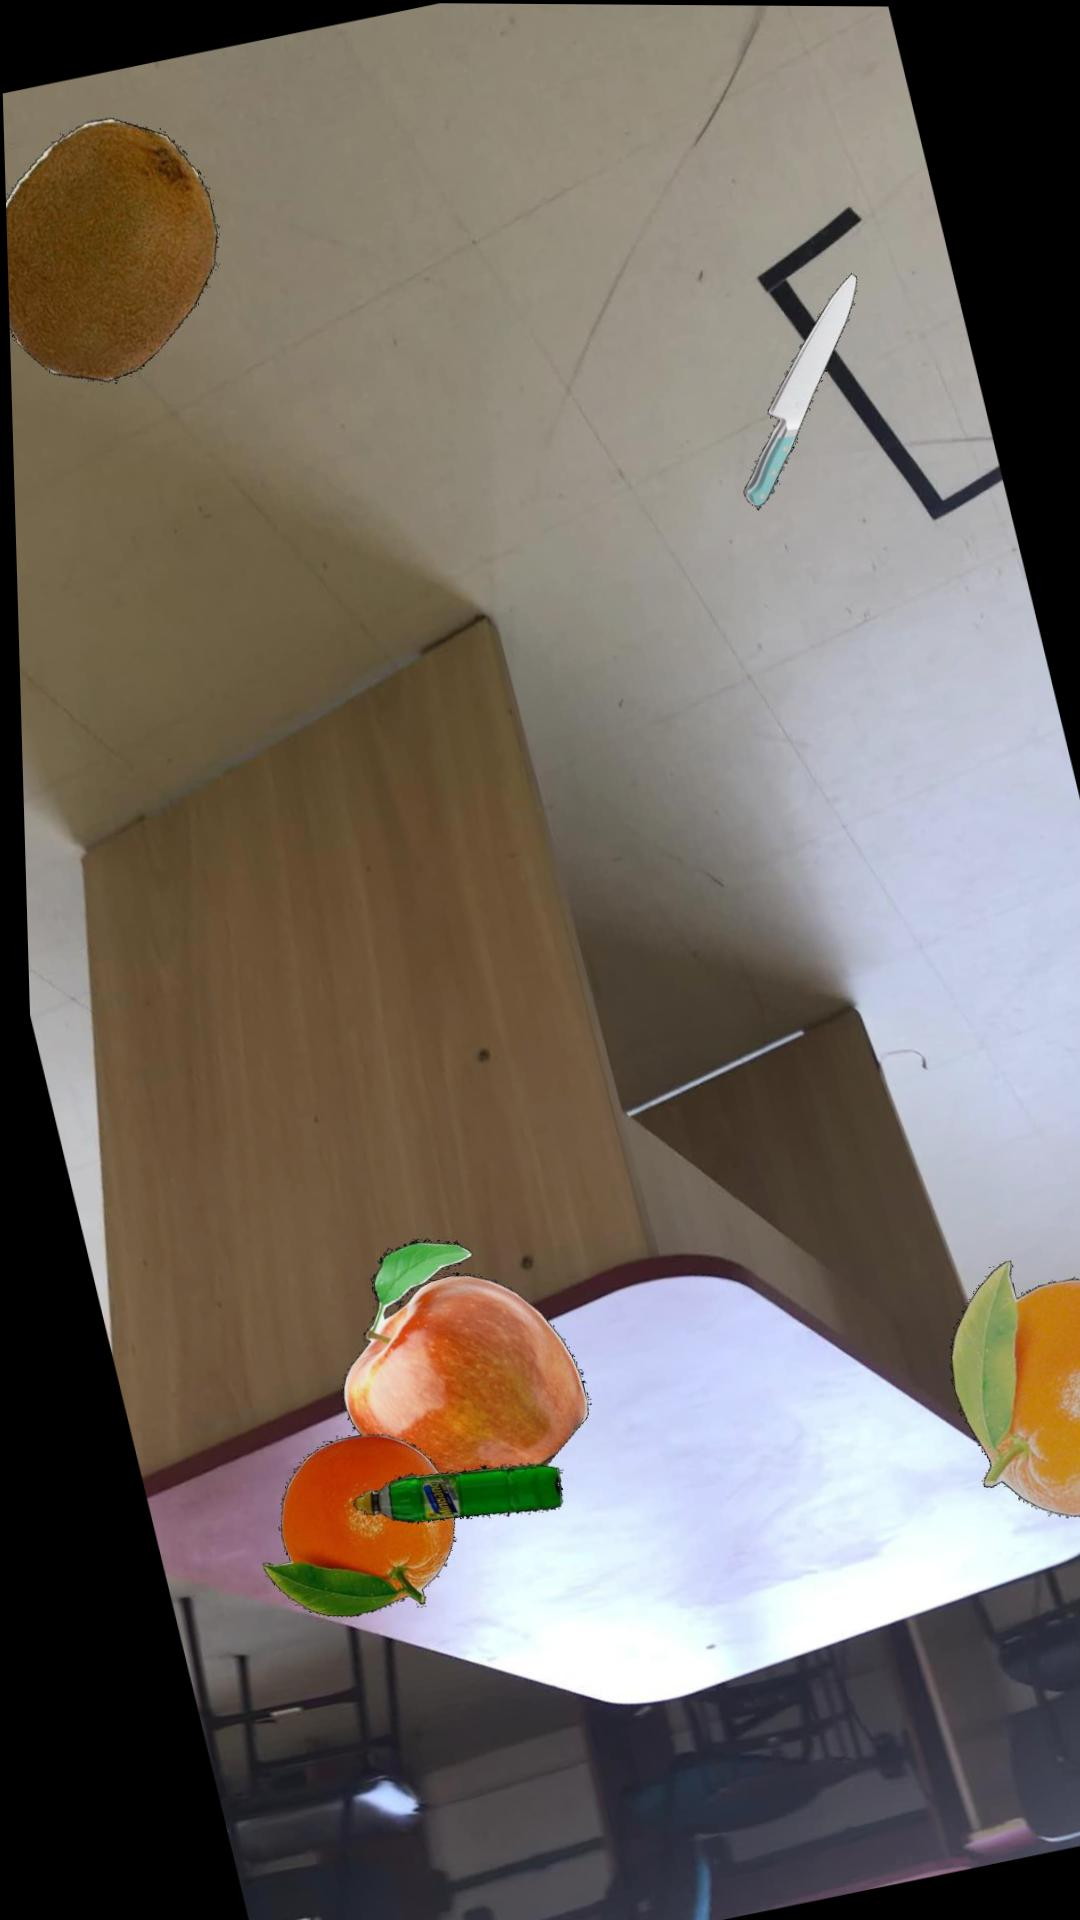apple: (335, 1240, 582, 1474)
cleaner: (345, 1464, 555, 1524)
kiwi: (5, 119, 219, 384)
knife: (741, 273, 857, 508)
orange: (255, 1435, 448, 1617), (943, 1261, 1080, 1516)
